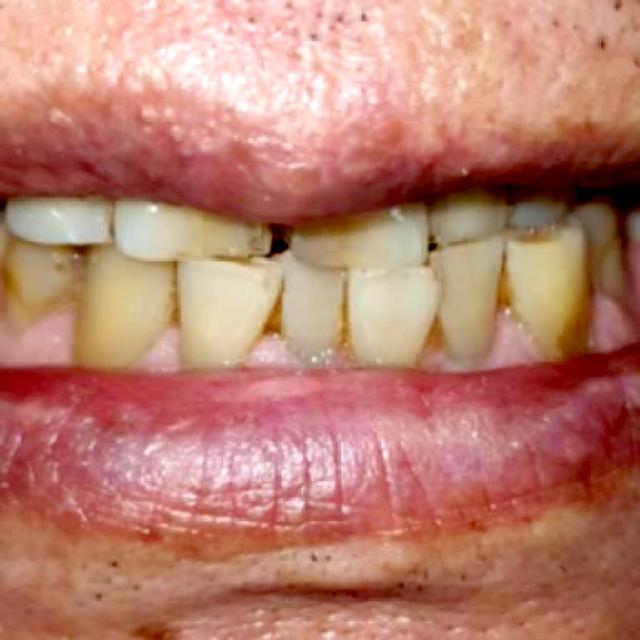Plaque: (46, 258, 72, 277), (432, 262, 452, 278)
